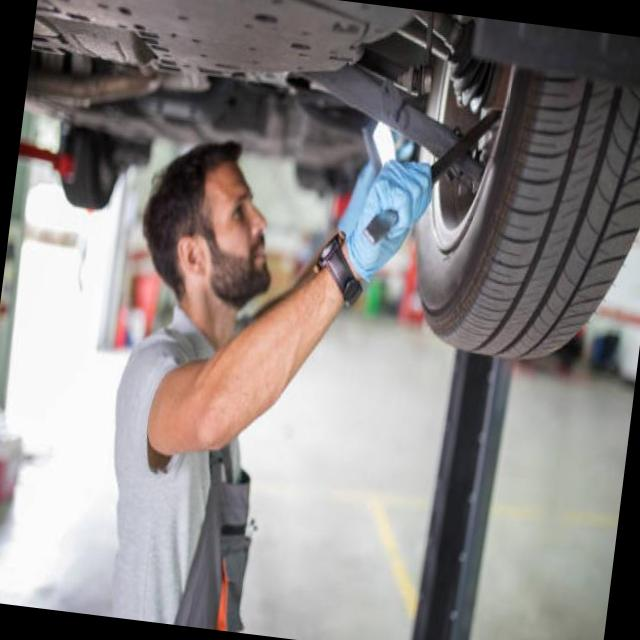Gloves: (327, 130, 439, 292)
